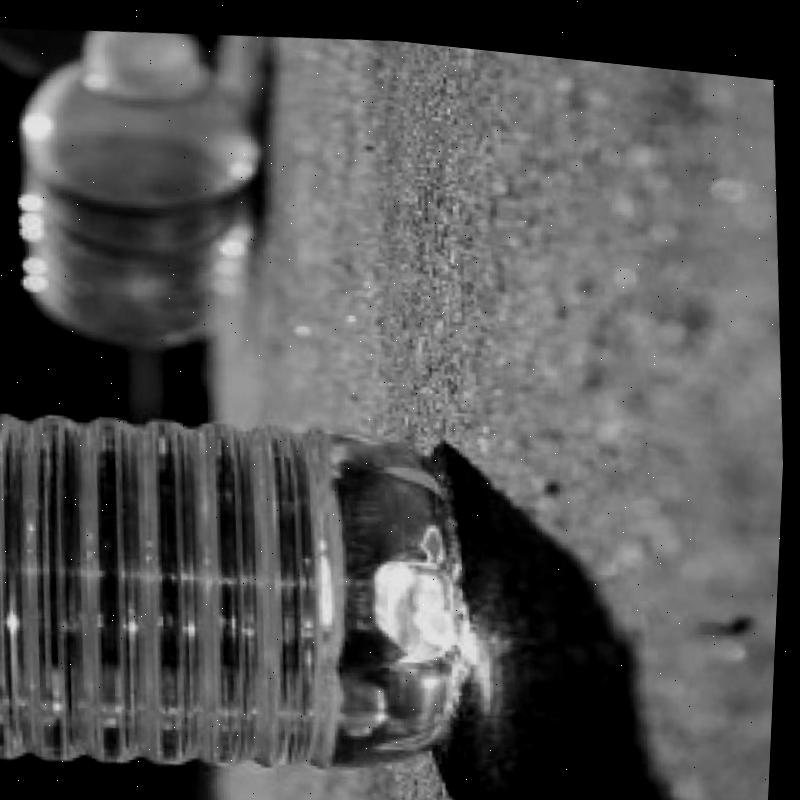botella: (0, 378, 482, 800), (0, 11, 274, 359)
